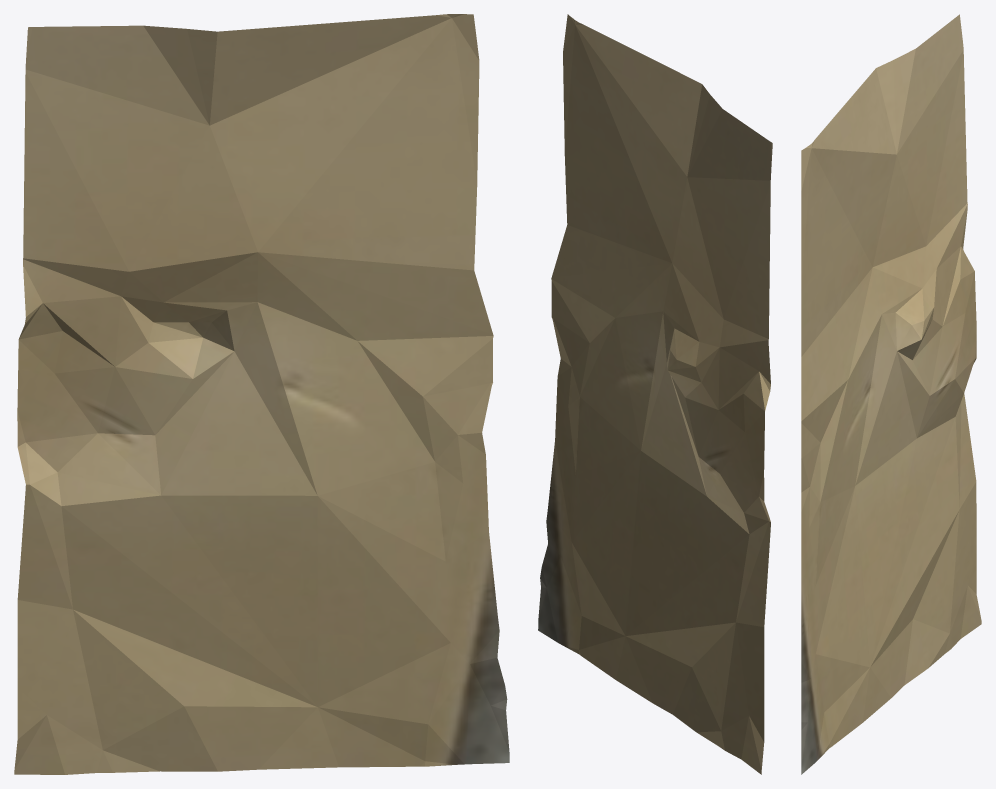
The picture shows the model from 3 angles, left to right: view 1: azimuth 30°, elevation 25°; view 2: azimuth 150°, elevation 25°; view 3: azimuth 270°, elevation 25°; orthographic projection. The views are drawn at different scales.
Size of the model in its own units: 0.8868 by 1.67 by 0.4484.
Materials: 2 (2 with a texture image).
